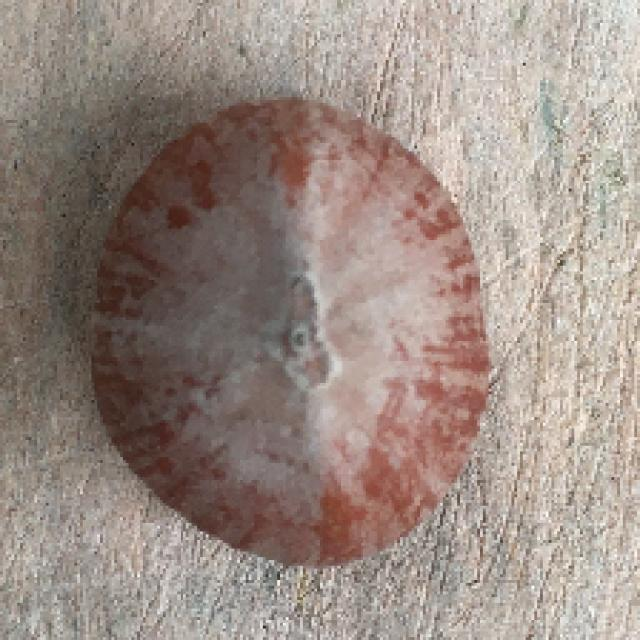qualityHazelnut: (89, 95, 499, 572)
